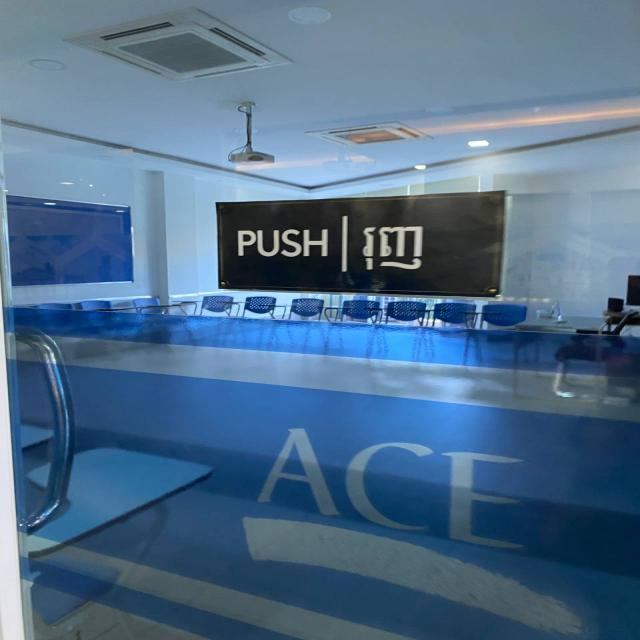Yolov11_80vkh: (356, 218, 437, 276)
